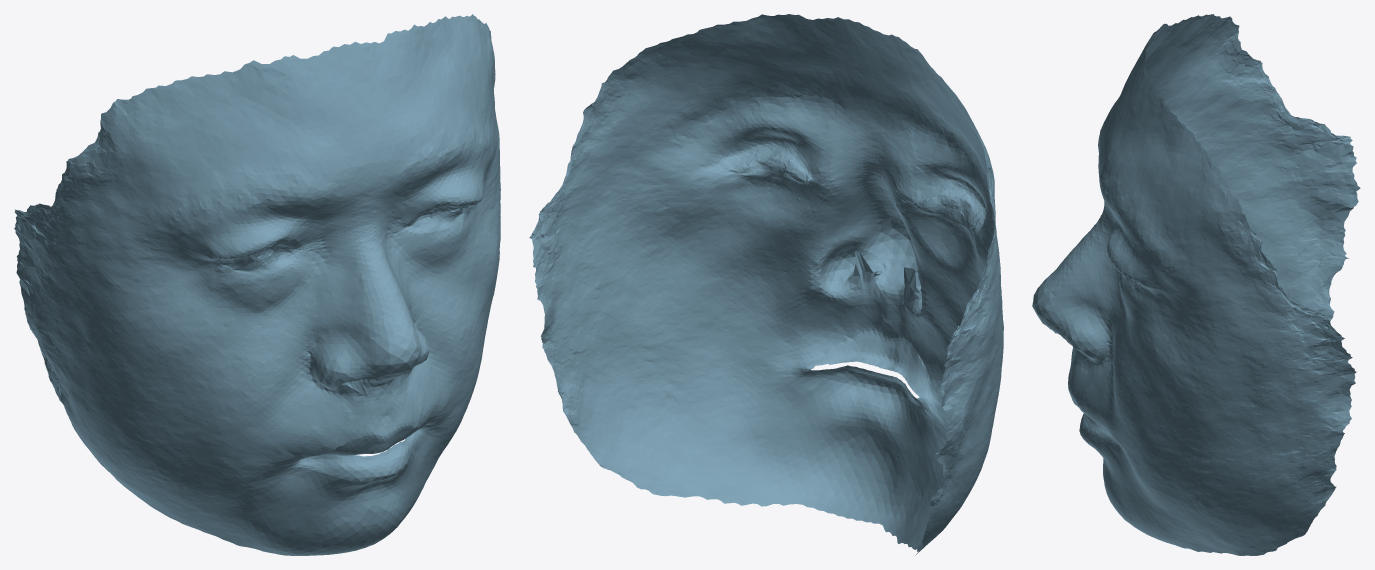
The picture shows the model from 3 angles, left to right: view 1: azimuth 30°, elevation 25°; view 2: azimuth 150°, elevation 25°; view 3: azimuth 270°, elevation 25°; orthographic projection. The views are drawn at different scales.
Size of the model in its own units: 1.55 by 1.72 by 1.09.
